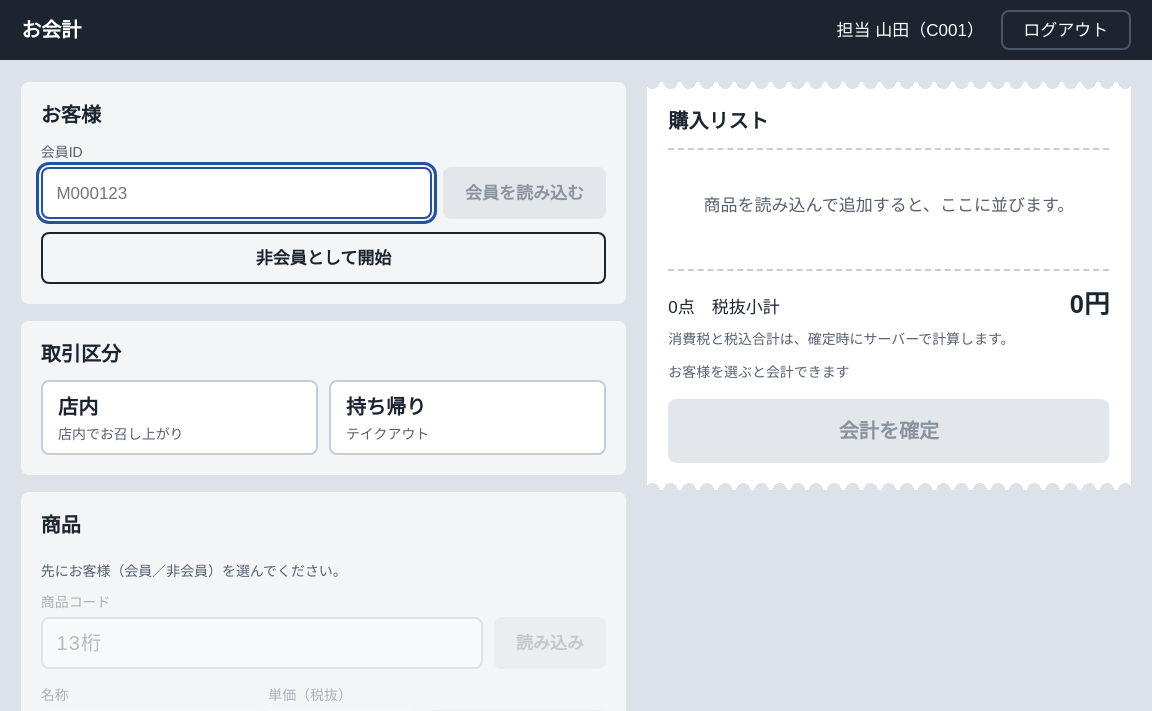
Test: S-02 POSメイン画面 › T-020 未登録の商品はメッセージを出し、購入リストは残る
The image size is (1152, 711).
Click the button "非会員として開始": [324, 258] box [41,232,606,284]
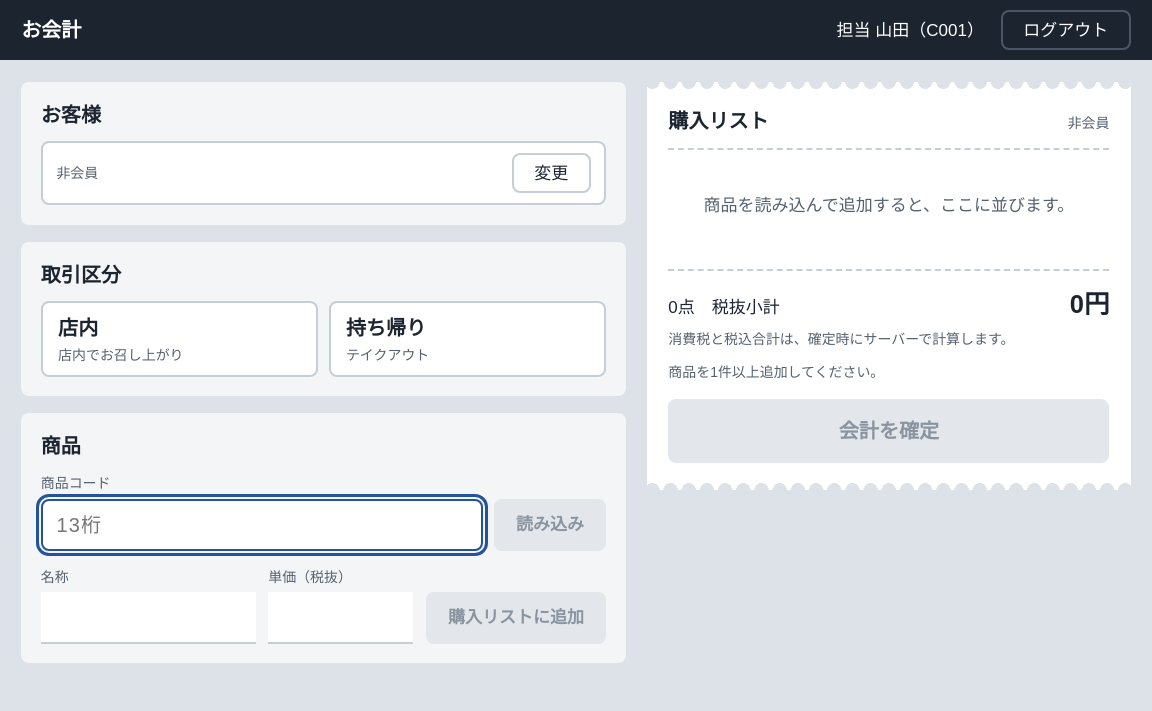
In the field labelled "商品コード": [262, 525] box [41,499,483,551], type "4900000000011"
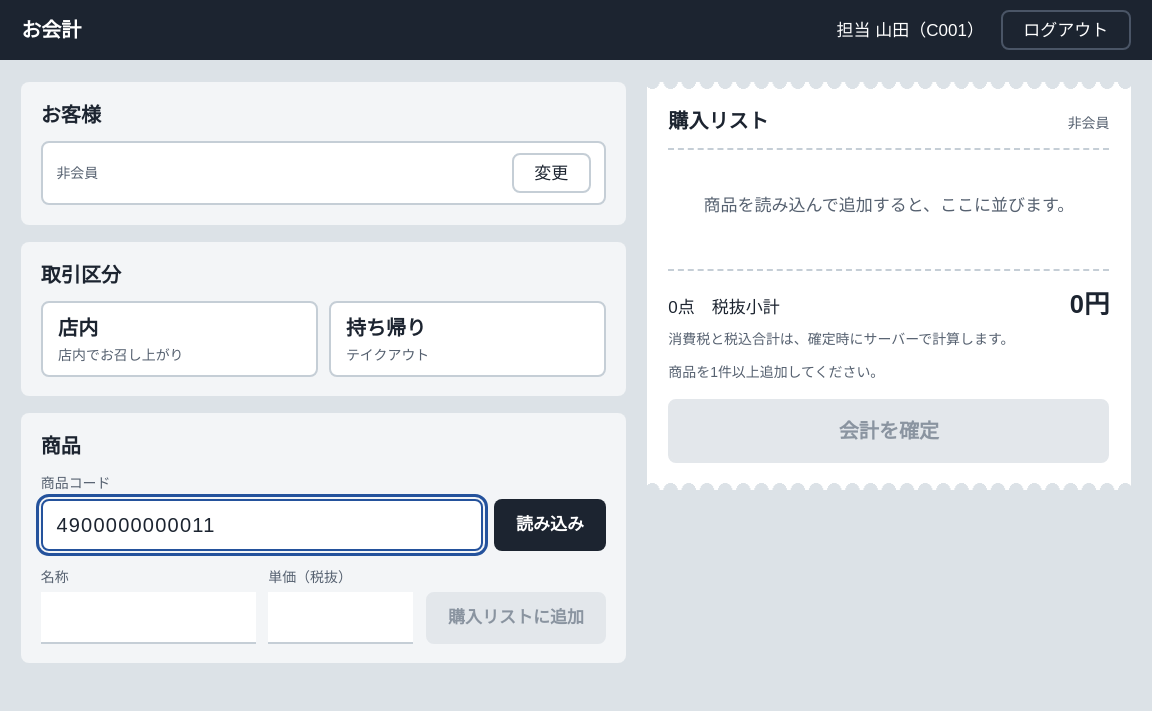
Click the button "読み込み": [550, 525] box [494,499,606,551]
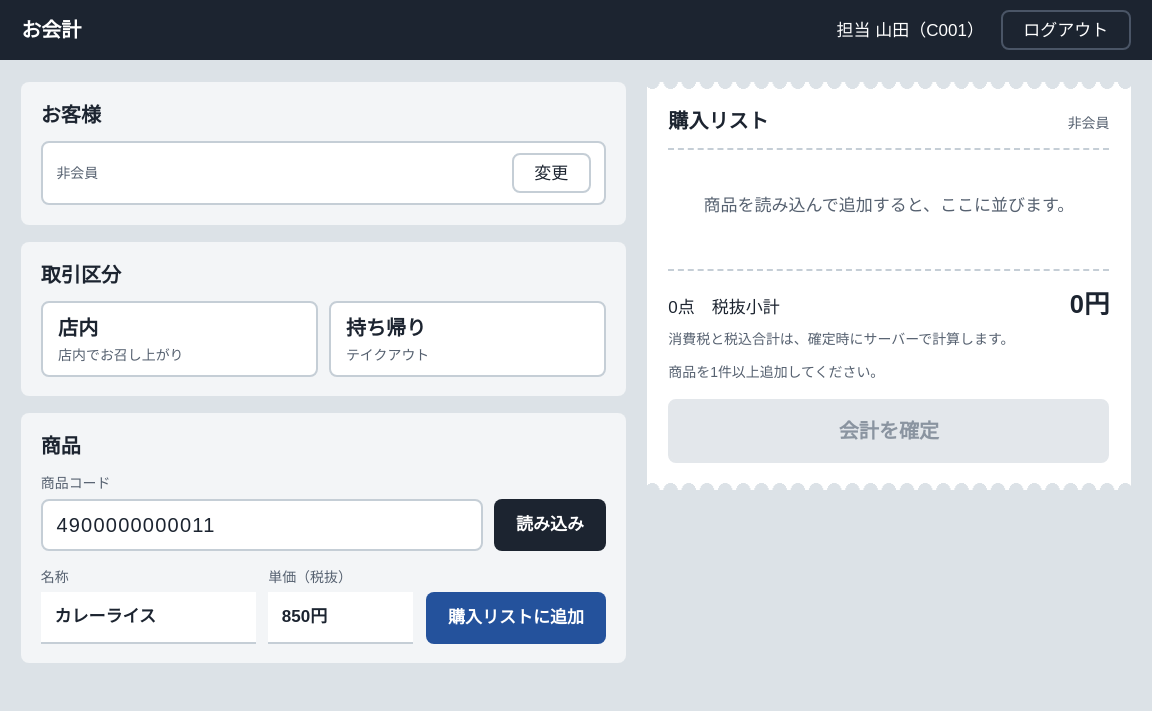
Click the button "購入リストに追加": [516, 618] box [426,592,606,644]
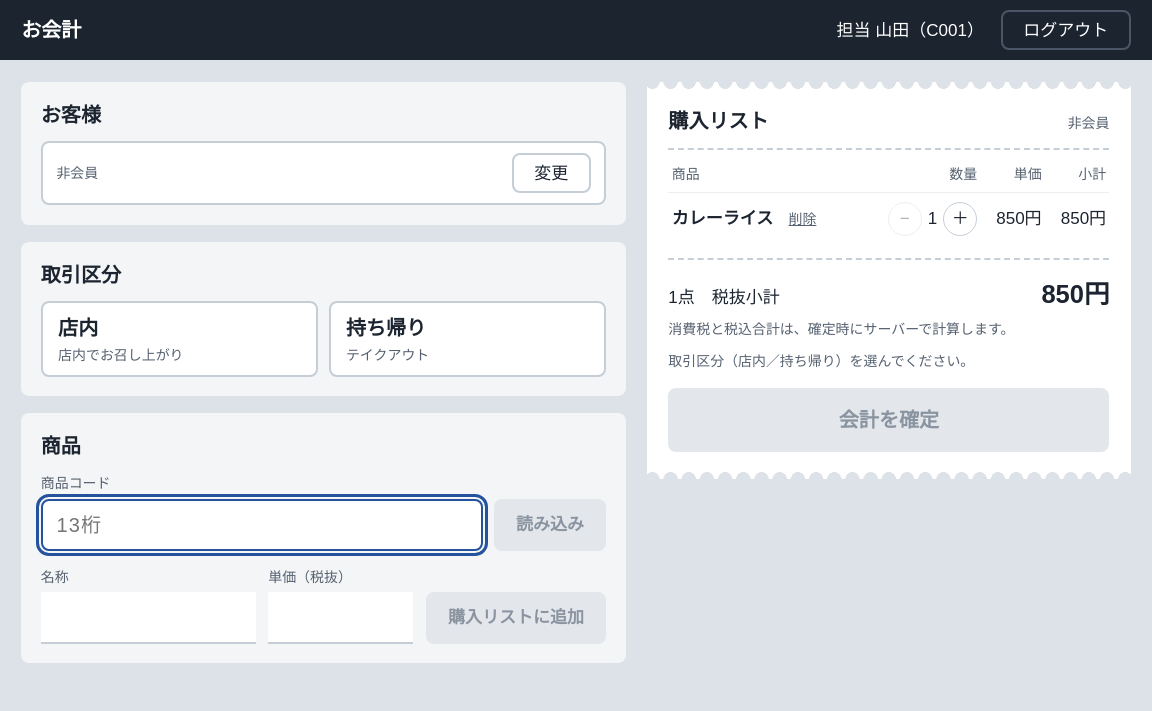
In the field labelled "商品コード": [262, 525] box [41,499,483,551], type "4999999999999"
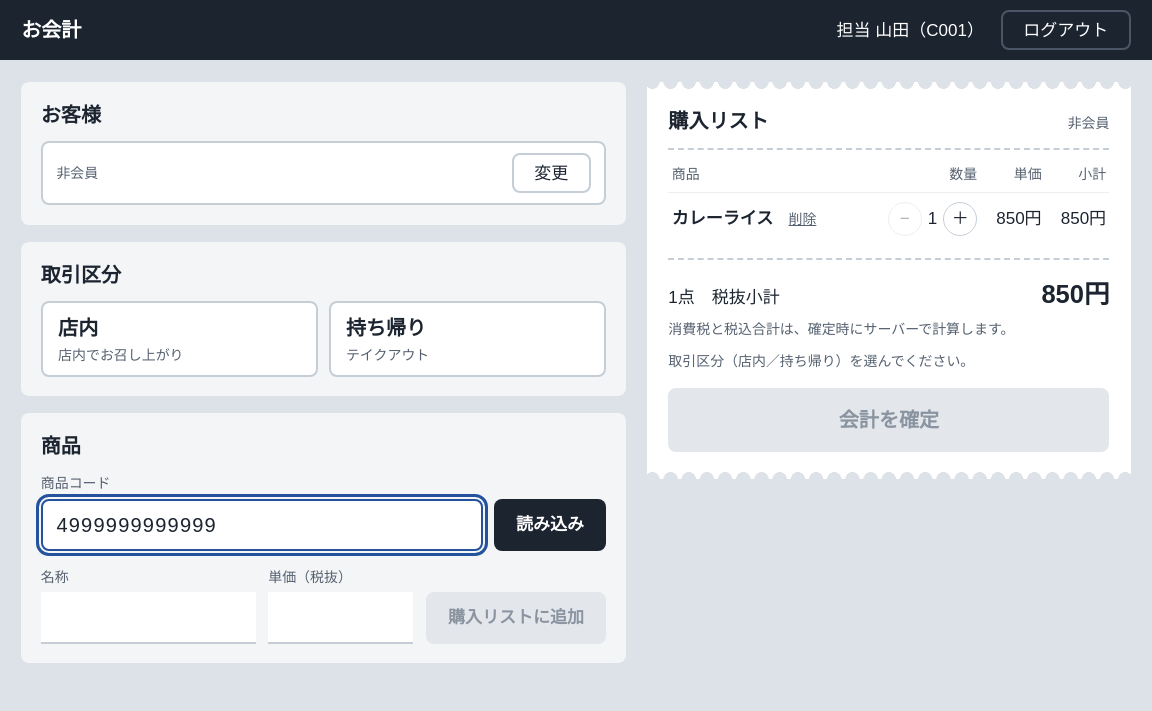
Click the button "読み込み": [550, 525] box [494,499,606,551]
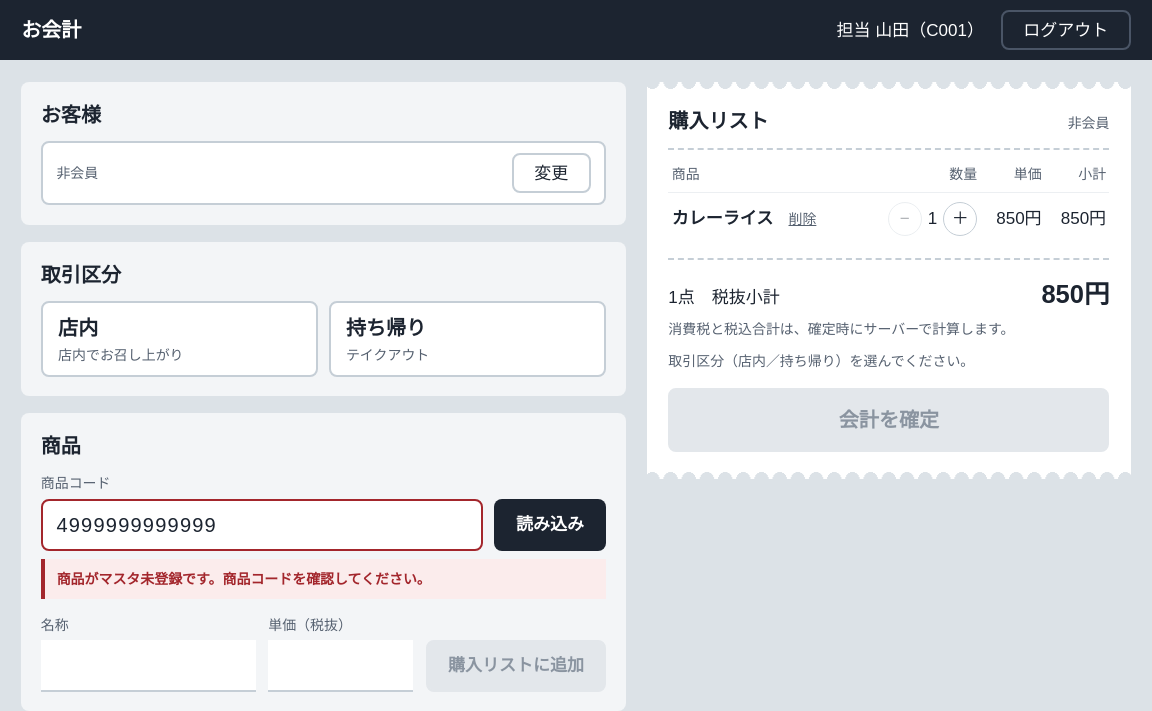
Check: the element with test id "found-name" is empty, box [41,640,256,692]
Check: the number of rows with test id "cart-row" is 1, box [668,193,1110,244]
Check: the message reads "商品がマスタ未登録です。商品コードを確認してください。", box [57,571,431,587]
